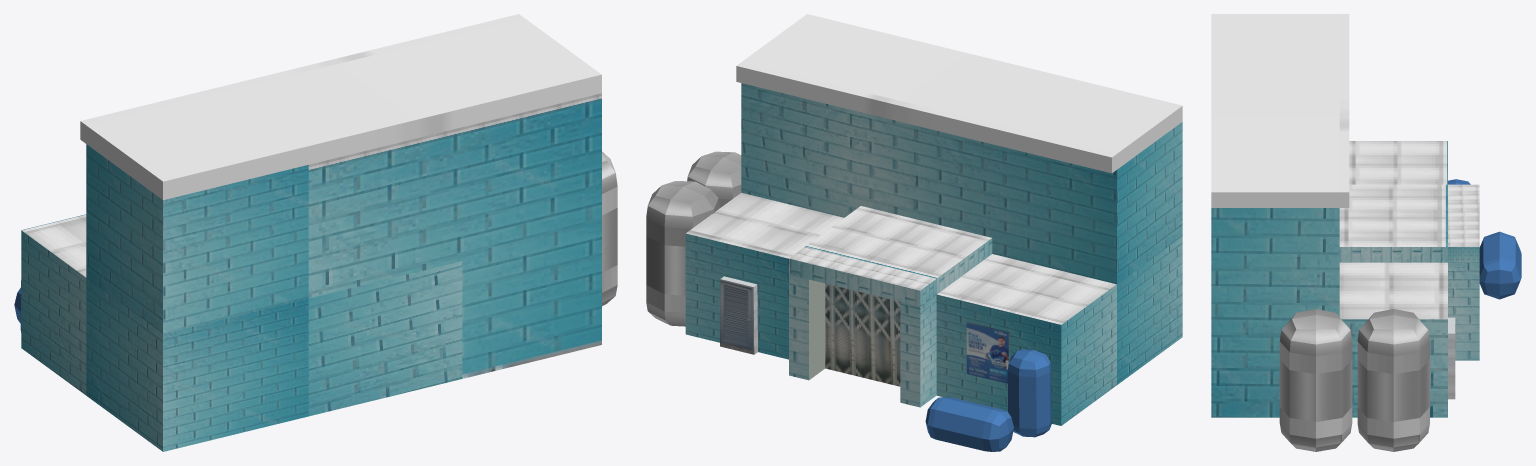
File: water station.fbx
The picture shows the model from 3 angles, left to right: view 1: azimuth 30°, elevation 25°; view 2: azimuth 150°, elevation 25°; view 3: azimuth 270°, elevation 25°; orthographic projection. The views are drawn at different scales.
Parts seen in each view (by area): view 1: Cube, Cube.002; view 2: Cube, Cube.001, Cube.003, Cube.004, Cube.002; view 3: Cube, Cube.002, Cube.001, Cube.003.
Boxes of the visible parts, bbox=[...] form: Cube: bbox=[21, 14, 601, 451]; Cube.002: bbox=[602, 151, 617, 305]; Cube: bbox=[685, 14, 1182, 425]; Cube.001: bbox=[646, 181, 719, 326]; Cube.003: bbox=[925, 397, 1013, 451]; Cube.004: bbox=[1007, 349, 1051, 437]; Cube.002: bbox=[687, 151, 741, 207]; Cube: bbox=[1211, 14, 1479, 417]; Cube.002: bbox=[1279, 309, 1352, 451]; Cube.001: bbox=[1357, 309, 1429, 451]; Cube.003: bbox=[1479, 231, 1521, 299].
Bounding box in the file's own units: 3873 × 2089 × 2440.
